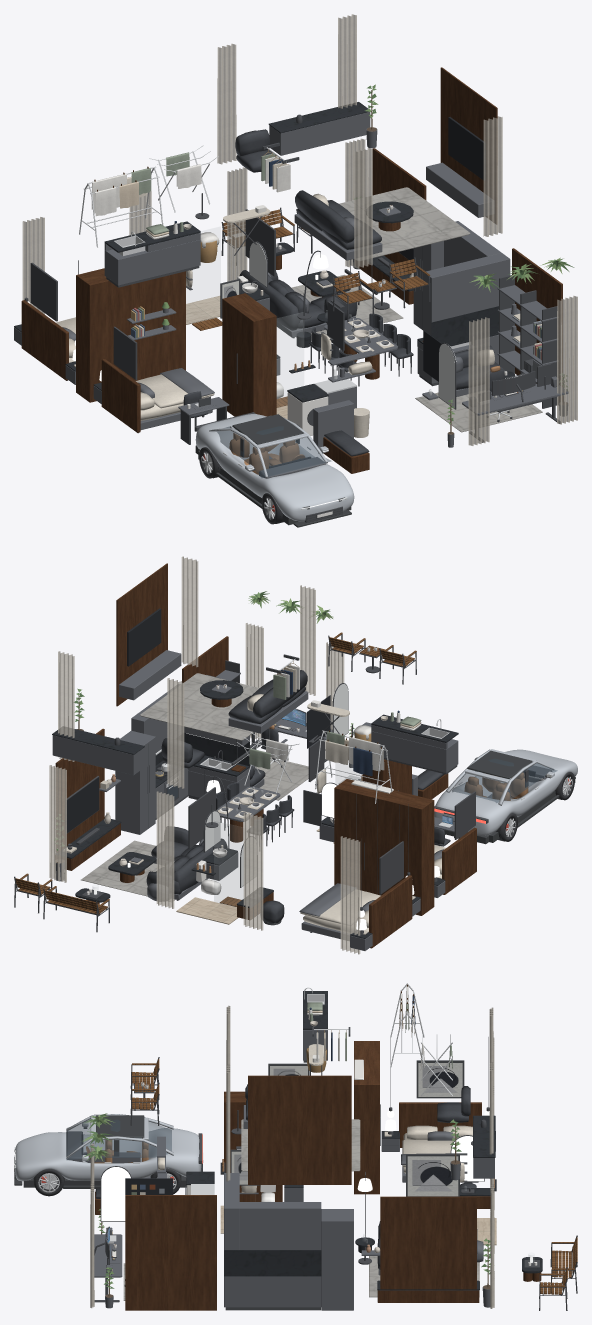
The model's file is furniture-modern.glb.
The picture shows the model from 3 angles, top to bottom: view 1: azimuth 30°, elevation 25°; view 2: azimuth 150°, elevation 25°; view 3: azimuth 270°, elevation 25°; orthographic projection. The views are drawn at different scales.
Visible parts, largest first — view 1: Modern_F-MB-WARD_Carcass, Modern_F-B2-WARD_Carcass, Modern_F-CP-CAR_Body, Modern_L2_Lounge_MediaSlat, Modern_F-KT-S_UpperCab, Modern_L2_Lounge_Rug, Modern_Curtain_Studio_W, Modern_L2_Jemuran_CabLow, Modern_F-CP-CAR_Glasshouse, Modern_Curtain_Studio_E, Modern_F-MB-BED_Headboard, Modern_L2_Curtain_Balc_E (+45 smaller); view 2: Modern_F-MB-WARD_Carcass, Modern_F-CP-CAR_Body, Modern_L2_Lounge_Rug, Modern_L2_Lounge_MediaSlat, Modern_F-KT-FRIDGE_Body, Modern_Curtain_Master_E, Modern_Curtain_Master_W, Modern_F-ME-SHW_GlassPanel, Modern_Curtain_Living_W, Modern_F-LV-TV_FeaturePanel, Modern_Curtain_Living_E, Modern_L2_Jemuran_CabLow (+46 smaller); view 3: Modern_L2_Lounge_MediaSlat, Modern_F-ST-SHELF_AcousticSlatPanel, Modern_F-LV-TV_FeaturePanel, Modern_F-CP-CAR_Body, Modern_F-KT-E_UpperCab, Modern_F-KT-FRIDGE_Body, Modern_F-MB-WARD_Carcass, Modern_F-KT-E_BaseCab, Modern_F-KT-E_Backsplash, Modern_F-CP-CAR_Glasshouse, Modern_ArtLiving_Canvas, Modern_F-MB-BED_Headboard (+22 smaller).
Part boxes in pixels (box(x1,y1,x2,y2)): Modern_F-MB-WARD_Carcass: box(76, 268, 185, 402); Modern_F-B2-WARD_Carcass: box(222, 293, 276, 416); Modern_F-CP-CAR_Body: box(195, 414, 354, 521); Modern_L2_Lounge_MediaSlat: box(440, 67, 497, 223); Modern_F-KT-S_UpperCab: box(423, 253, 510, 322); Modern_L2_Lounge_Rug: box(339, 187, 470, 260); Modern_Curtain_Studio_W: box(468, 317, 489, 445); Modern_L2_Jemuran_CabLow: box(104, 239, 200, 285); Modern_F-CP-CAR_Glasshouse: box(217, 426, 331, 477); Modern_Curtain_Studio_E: box(557, 295, 577, 424); Modern_F-MB-BED_Headboard: box(21, 300, 68, 380); Modern_L2_Curtain_Balc_E: box(483, 116, 502, 236); Modern_F-MB-WARD_Carcass: box(334, 779, 434, 915); Modern_F-CP-CAR_Body: box(434, 749, 577, 835); Modern_L2_Lounge_Rug: box(140, 673, 259, 740); Modern_L2_Lounge_MediaSlat: box(116, 563, 167, 706); Modern_F-KT-FRIDGE_Body: box(115, 730, 155, 834); Modern_Curtain_Master_E: box(243, 812, 263, 930); Modern_Curtain_Master_W: box(340, 836, 360, 954); Modern_F-ME-SHW_GlassPanel: box(214, 821, 243, 906); Modern_Curtain_Living_W: box(156, 791, 174, 908); Modern_F-LV-TV_FeaturePanel: box(55, 728, 104, 852); Modern_Curtain_Living_E: box(49, 765, 66, 882); Modern_L2_Jemuran_CabLow: box(371, 731, 458, 772); Modern_L2_Lounge_MediaSlat: box(248, 1075, 351, 1184); Modern_F-ST-SHELF_AcousticSlatPanel: box(125, 1195, 216, 1310); Modern_F-LV-TV_FeaturePanel: box(380, 1196, 476, 1289); Modern_F-CP-CAR_Body: box(14, 1128, 201, 1181); Modern_F-KT-E_UpperCab: box(239, 1202, 321, 1249); Modern_F-KT-FRIDGE_Body: box(321, 1209, 353, 1310); Modern_F-MB-WARD_Carcass: box(354, 1041, 379, 1194); Modern_F-KT-E_BaseCab: box(224, 1276, 321, 1307); Modern_F-KT-E_Backsplash: box(225, 1250, 321, 1275); Modern_F-CP-CAR_Glasshouse: box(66, 1118, 171, 1160); Modern_ArtLiving_Canvas: box(407, 1156, 458, 1196); Modern_F-MB-BED_Headboard: box(399, 1102, 481, 1147).
Size of the model in its own units: 8.74 by 6.12 by 13.03.
Materials: 50 (17 with a texture image).
